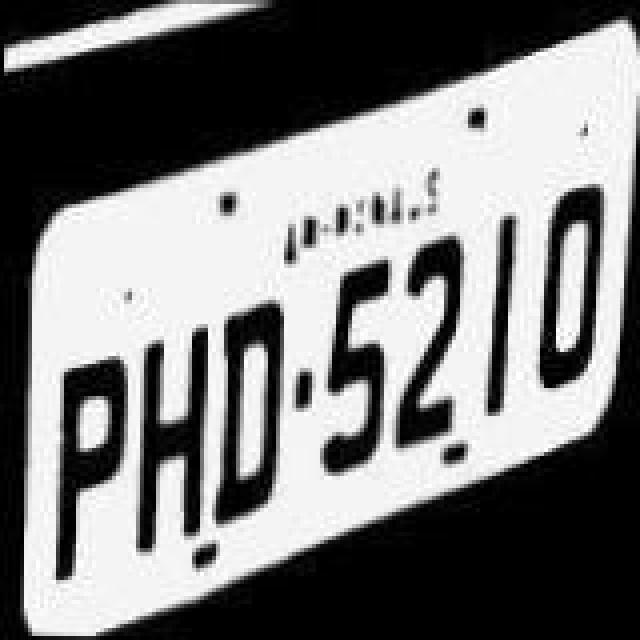1: (478, 184, 522, 428)
2: (392, 234, 472, 446)
5: (322, 250, 398, 474)
D: (206, 288, 286, 528)
H: (130, 312, 210, 556)
O: (532, 178, 604, 390)
P: (44, 334, 128, 594)
